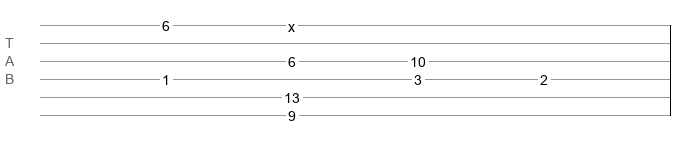1: (162, 72, 170, 82)
10: (410, 54, 426, 64)
13: (284, 90, 300, 100)
2: (540, 72, 548, 82)
3: (414, 72, 422, 82)
6: (162, 18, 170, 28), (288, 54, 296, 64)
9: (288, 108, 296, 118)
x: (288, 19, 295, 27)
